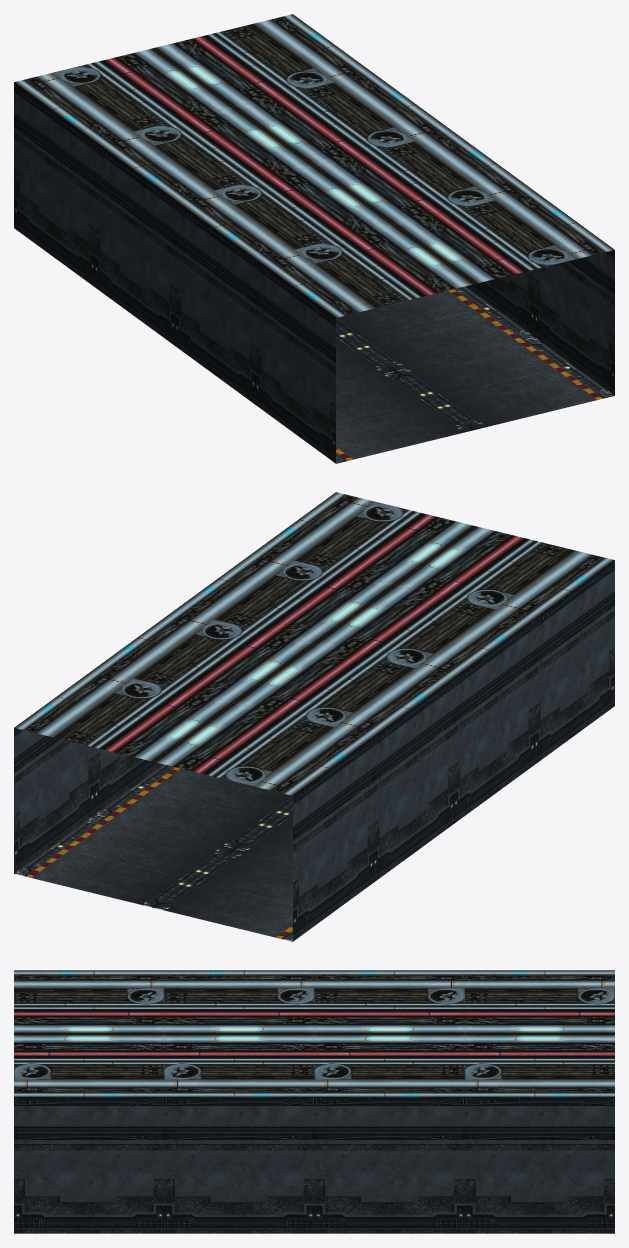
File: pbatun05.FBX
3 views of the same model, one above another, from view 1: azimuth 30°, elevation 25°; view 2: azimuth 150°, elevation 25°; view 3: azimuth 270°, elevation 25° (orthographic). The views are drawn at different scales.
Visible parts, largest first — view 1: pbatun05; view 2: pbatun05; view 3: pbatun05.
Boxes of the visible parts, <box> form: pbatun05: <box>14,14,614,463</box>; pbatun05: <box>14,492,614,941</box>; pbatun05: <box>14,970,614,1233</box>.
Size of what is drawn, in the model's own units: 16 by 32 by 8.
